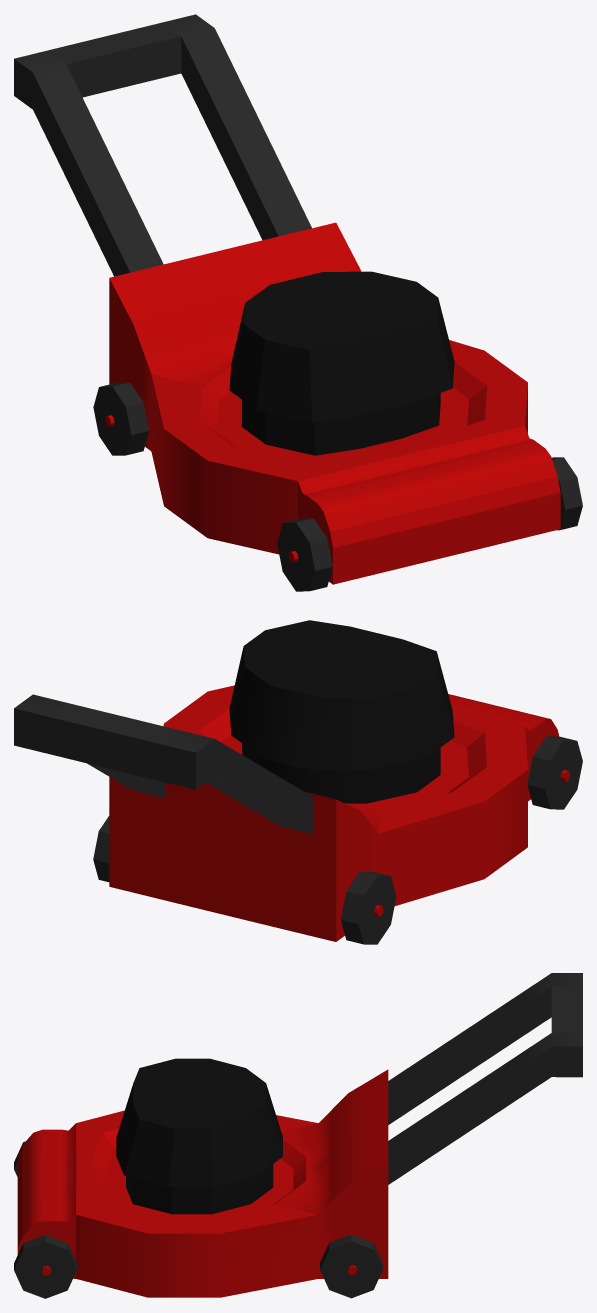
Rendered from MowerWithAxl.fbx.
The picture shows the model from 3 angles, top to bottom: view 1: azimuth 30°, elevation 25°; view 2: azimuth 150°, elevation 25°; view 3: azimuth 270°, elevation 25°; orthographic projection. The views are drawn at different scales.
Parts seen in each view (by area): view 1: pCube1, pasted__pasted__pCylinder2, pasted__pCylinder2, pCylinder2; view 2: pCube1, pasted__pCylinder2 (×2), pasted__pasted__pCylinder2; view 3: pCube1, pasted__pCylinder2, pCylinder2.
Part boxes in pixels (x1=…): pCube1: x1=14, y1=14, x2=560, y2=584; pasted__pasted__pCylinder2: x1=93, y1=382, x2=148, y2=455; pasted__pCylinder2: x1=277, y1=518, x2=332, y2=591; pCylinder2: x1=552, y1=457, x2=582, y2=530; pCube1: x1=14, y1=620, x2=559, y2=941; pasted__pCylinder2 (×2): x1=93, y1=736, x2=582, y2=882; pasted__pasted__pCylinder2: x1=340, y1=871, x2=396, y2=944; pCube1: x1=17, y1=973, x2=582, y2=1297; pasted__pCylinder2: x1=320, y1=1234, x2=382, y2=1298; pCylinder2: x1=14, y1=1235, x2=76, y2=1298.
Bounding box in the file's own units: 1.41 × 1.2 × 2.63.
